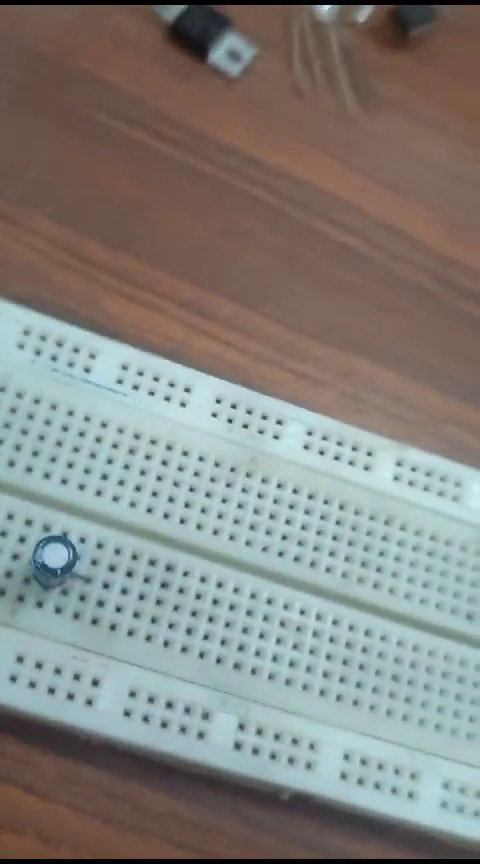capacitor: (34, 527, 86, 588)
